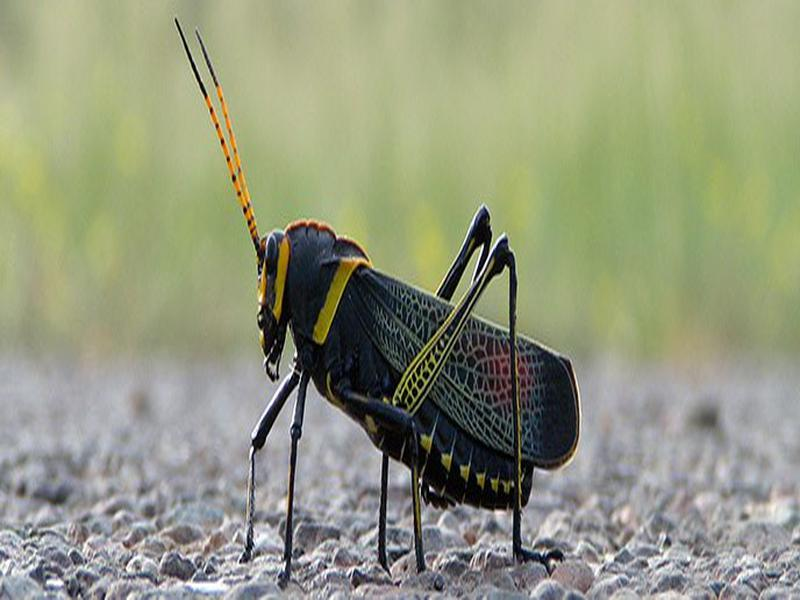Grasshopper: (197, 180, 617, 557)
